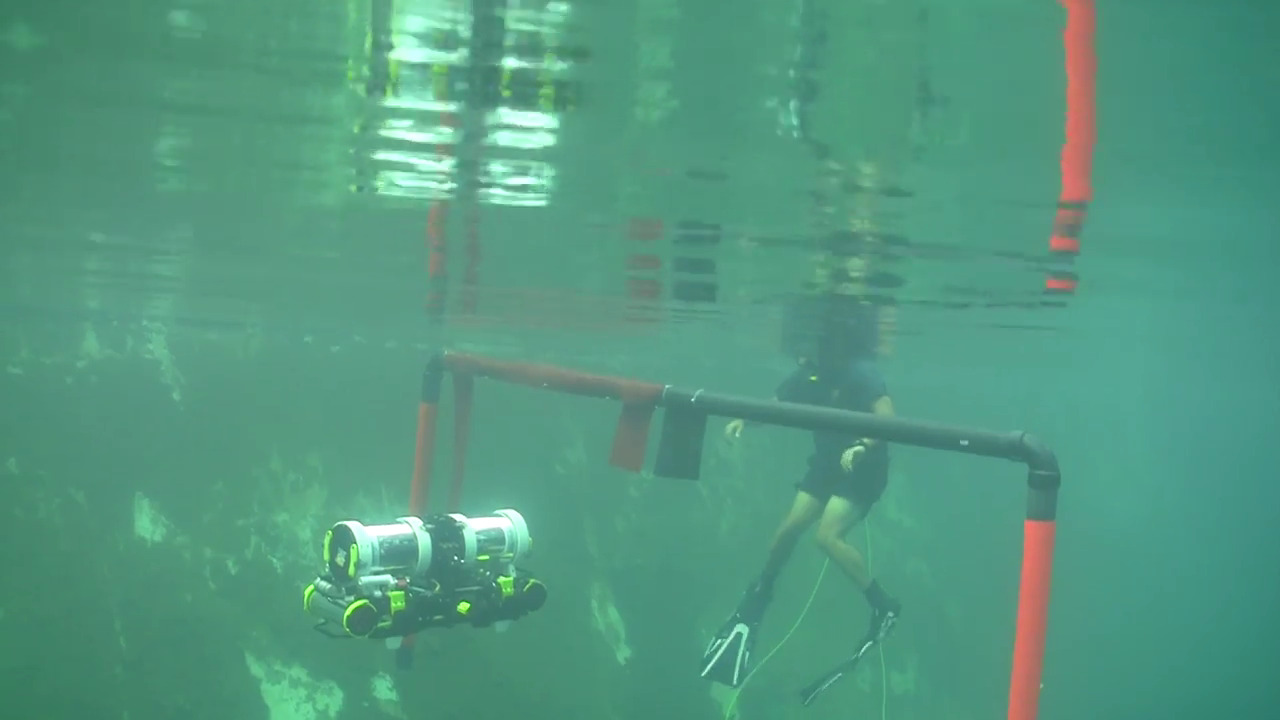gate: (406, 342, 1068, 718)
